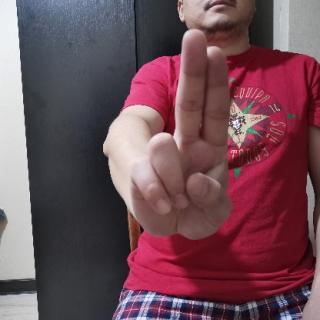TA: (122, 28, 235, 250)
